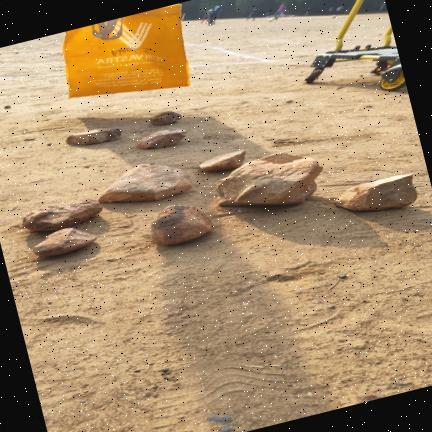Rocks: (215, 158, 321, 206), (99, 164, 190, 202), (334, 174, 416, 211), (22, 199, 101, 231), (151, 205, 212, 245), (32, 228, 96, 257), (199, 150, 245, 172), (66, 128, 120, 145), (138, 130, 185, 149), (258, 153, 302, 164), (149, 111, 181, 125), (208, 415, 232, 424), (220, 426, 233, 431), (3, 106, 10, 109)
